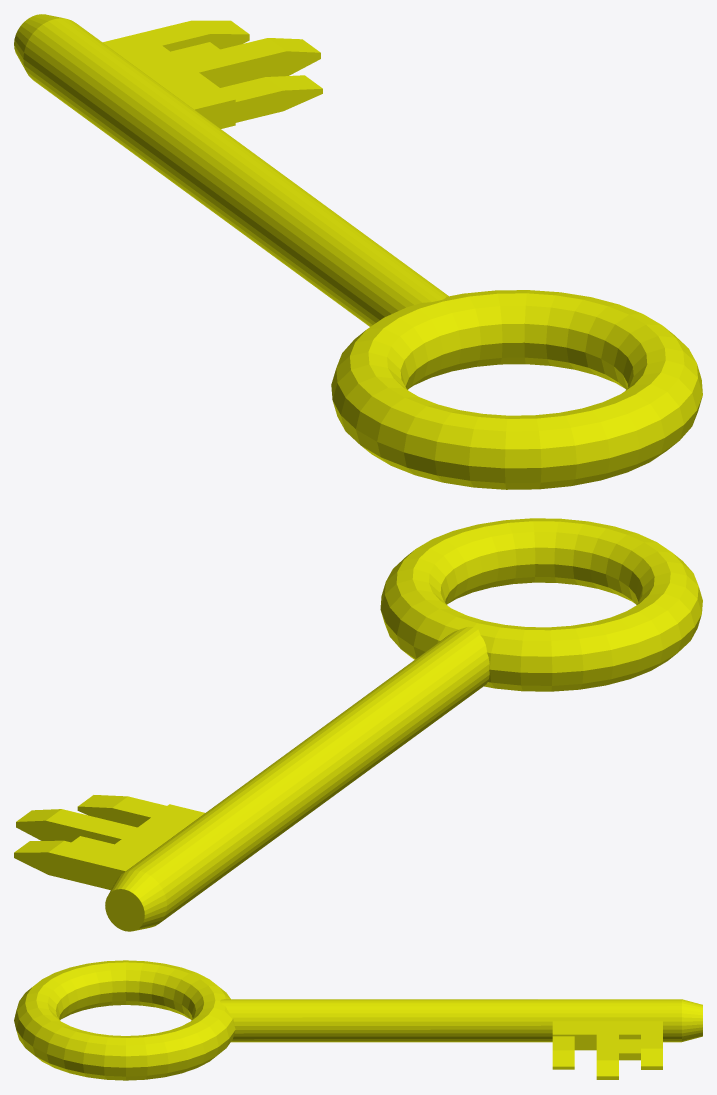
The model's file is Key.fbx.
3 views of the same model, one above another, from view 1: azimuth 30°, elevation 25°; view 2: azimuth 150°, elevation 25°; view 3: azimuth 270°, elevation 25° (orthographic). The views are drawn at different scales.
Parts seen in each view (by area): view 1: Cylinder; view 2: Cylinder; view 3: Cylinder.
Boxes of the visible parts, <box> form: Cylinder: <box>14,14,702,489</box>; Cylinder: <box>14,518,702,931</box>; Cylinder: <box>14,960,702,1080</box>.
Size of the model in its own units: 219 by 39.58 by 609.
